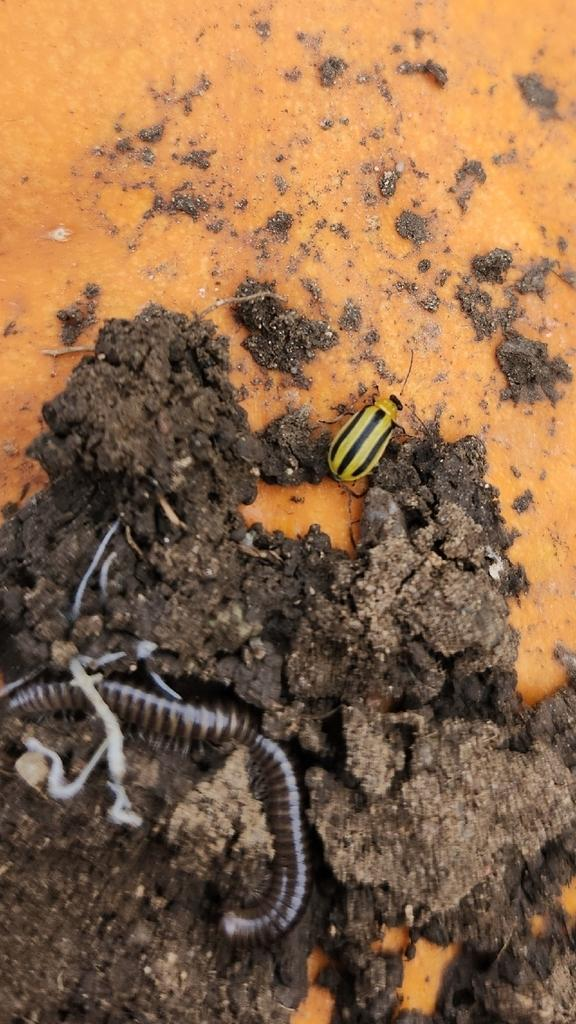potato_beetle: (291, 330, 454, 509)
